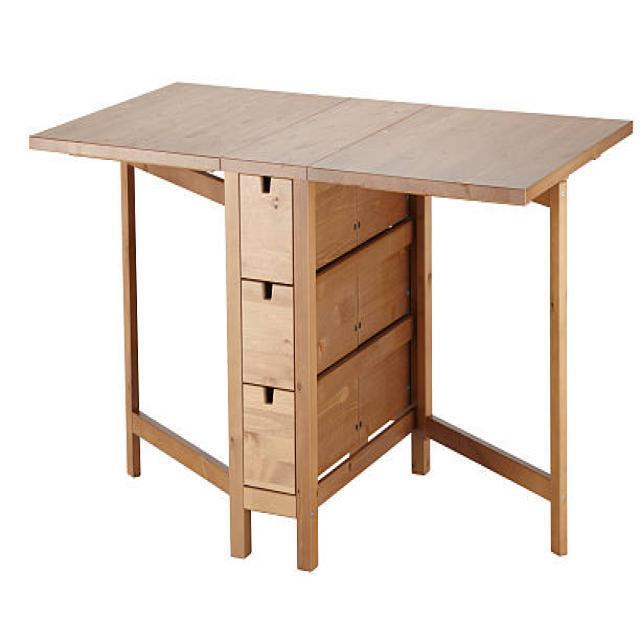table: (28, 78, 634, 571)
